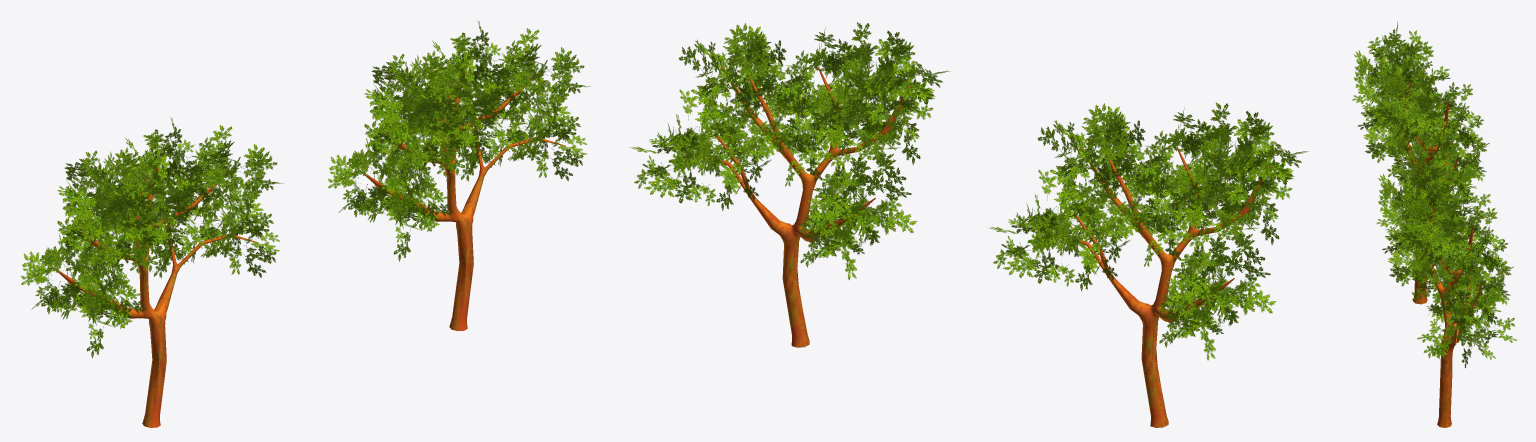
File: model_two_trees.glb
3 views of the same model, side by side, from view 1: azimuth 30°, elevation 25°; view 2: azimuth 150°, elevation 25°; view 3: azimuth 270°, elevation 25° (orthographic). The views are drawn at different scales.
Parts seen in each view (by area): view 1: EnvProp_Tree_C.016, EnvProp_Tree_C.013; view 2: EnvProp_Tree_C.013, EnvProp_Tree_C.016; view 3: EnvProp_Tree_C.013, EnvProp_Tree_C.016.
Part boxes in pixels (x1,y1,x2,y2): EnvProp_Tree_C.016: [21, 117, 283, 427]; EnvProp_Tree_C.013: [328, 20, 590, 331]; EnvProp_Tree_C.013: [629, 22, 950, 347]; EnvProp_Tree_C.016: [988, 102, 1308, 427]; EnvProp_Tree_C.013: [1376, 145, 1516, 427]; EnvProp_Tree_C.016: [1352, 21, 1491, 304].
Size of the model in its own units: 9.57 by 5.01 by 3.04.
Materials: 2 (2 with a texture image).
